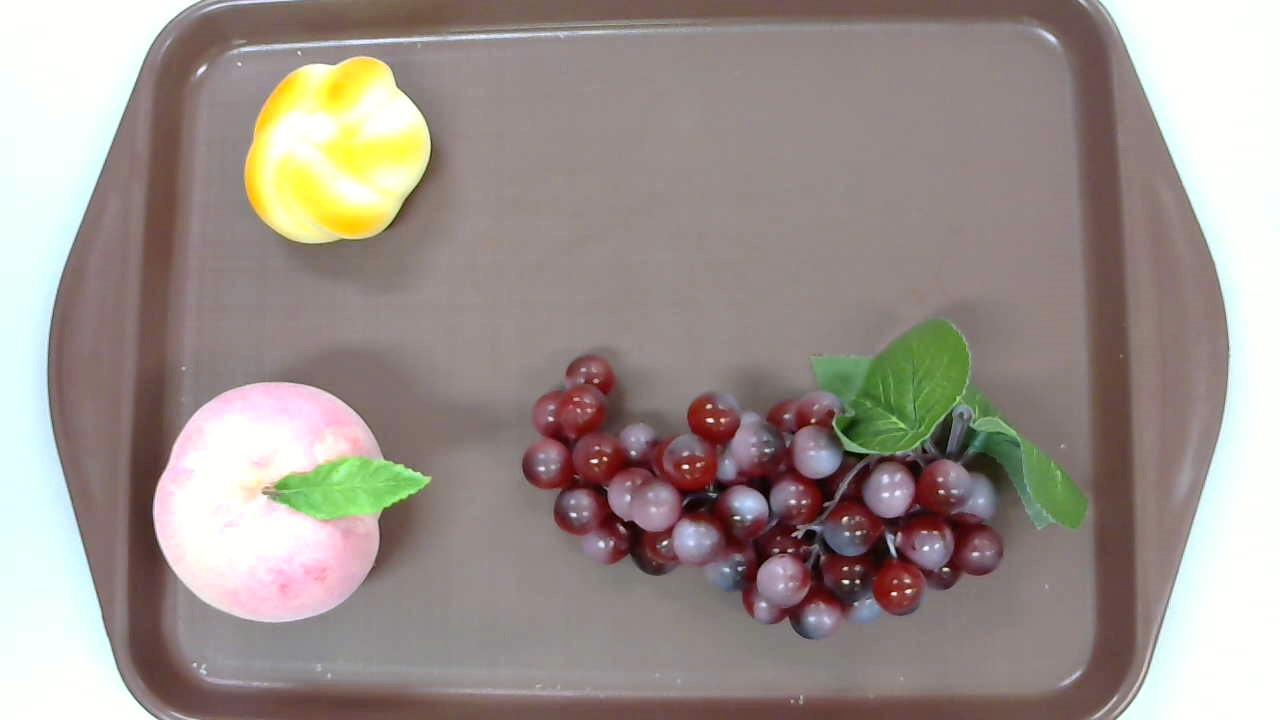grape: (521, 313, 1087, 639)
peaches: (151, 380, 433, 622)
twist bread: (243, 56, 432, 243)
